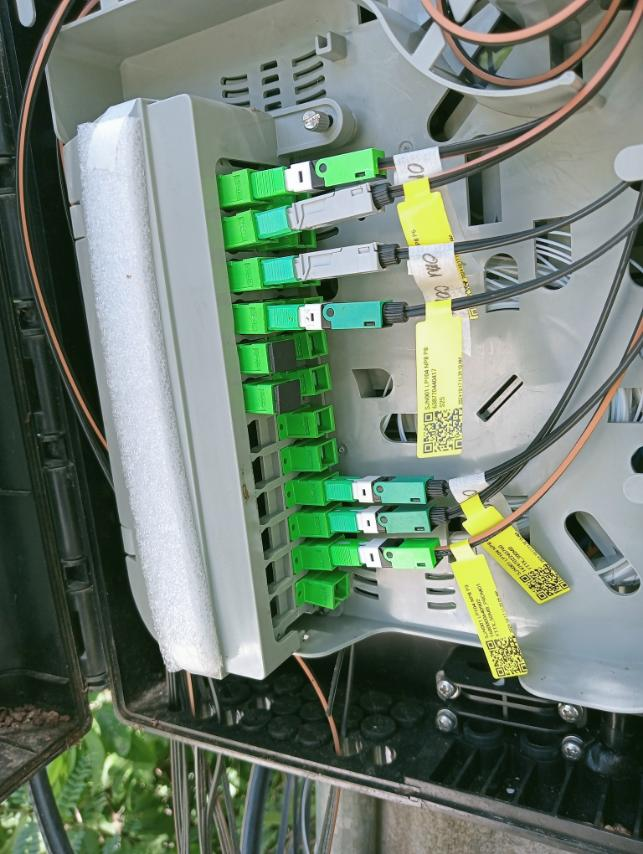no dust cap: (304, 328, 329, 358), (309, 362, 331, 395), (316, 439, 338, 471), (295, 215, 316, 248), (298, 257, 322, 285), (312, 407, 333, 438), (333, 572, 350, 609), (304, 296, 324, 325), (290, 181, 311, 206)
no port: (267, 583, 296, 630), (249, 450, 283, 490), (264, 552, 293, 596), (255, 485, 286, 526), (246, 416, 277, 455), (261, 518, 288, 560)
occupied: (254, 180, 399, 242), (250, 148, 391, 203), (259, 242, 408, 289), (267, 301, 415, 332), (329, 504, 457, 534), (325, 477, 457, 503), (333, 539, 455, 567)
vacant: (269, 338, 297, 375), (274, 379, 300, 414)
